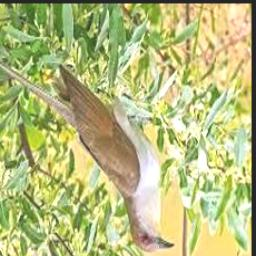Cuckoo: (0, 44, 176, 253)
